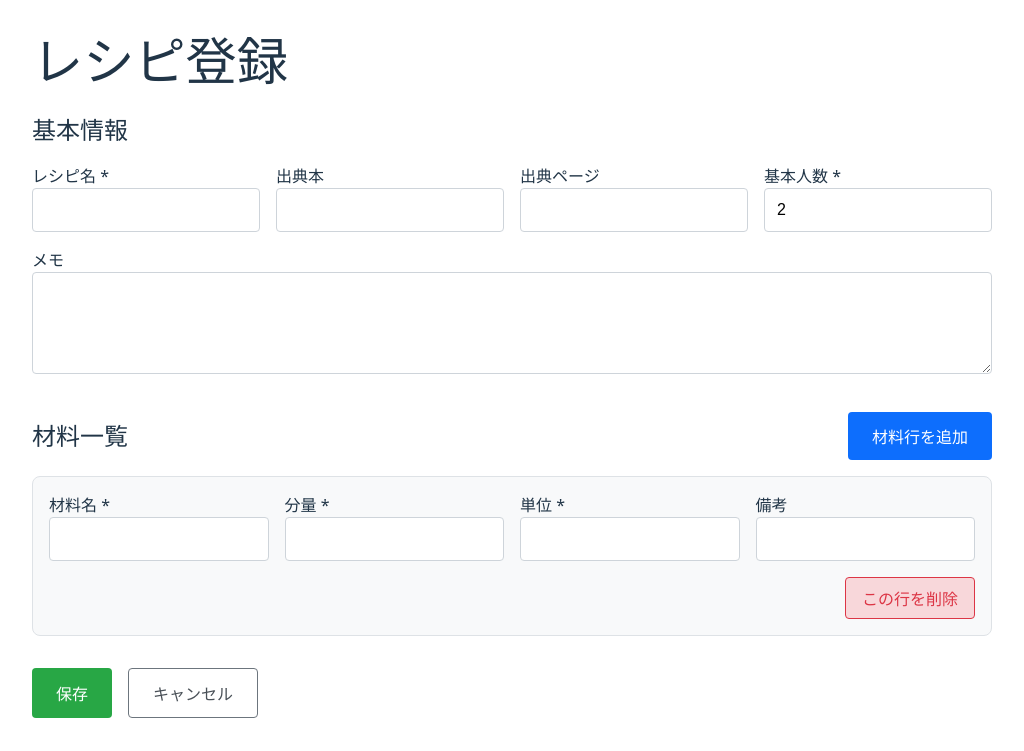
Test: RecipeNewPage › 有効な入力の送信に失敗した場合はAPIエラーを表示して遷移しない
Type "カレー" into the field labelled "レシピ名 *".
click(146, 210); type("カレー")  # box 32,188 -> 260,232
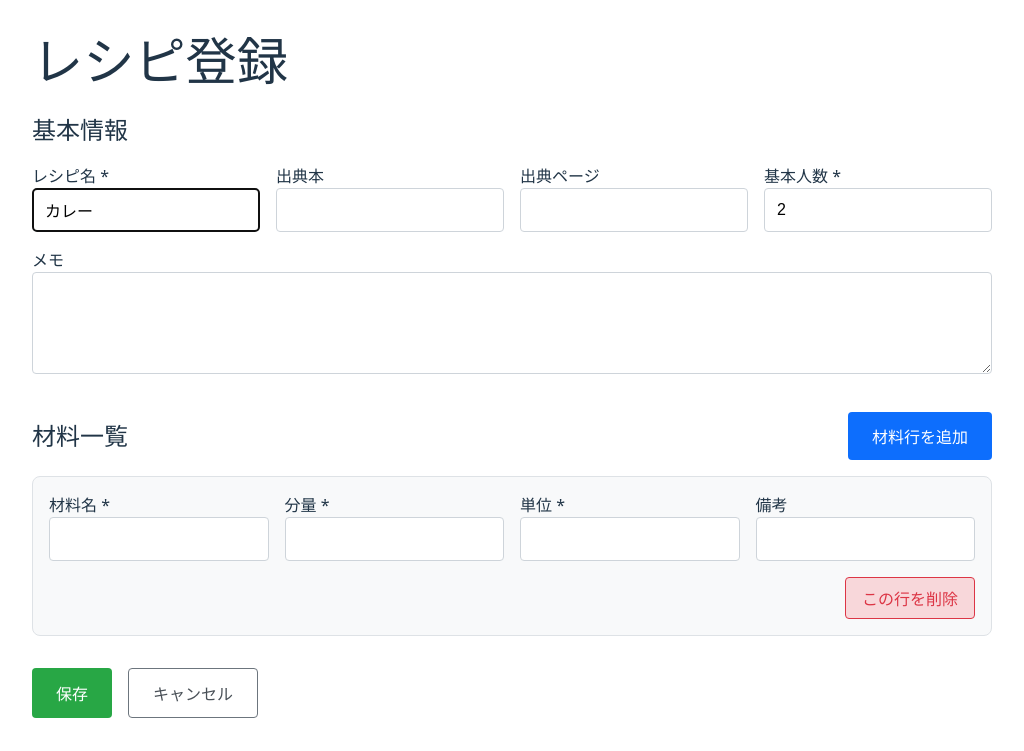
Type "肉" into the field labelled "材料名 *".
click(159, 539); type("肉")  # box 49,517 -> 268,561
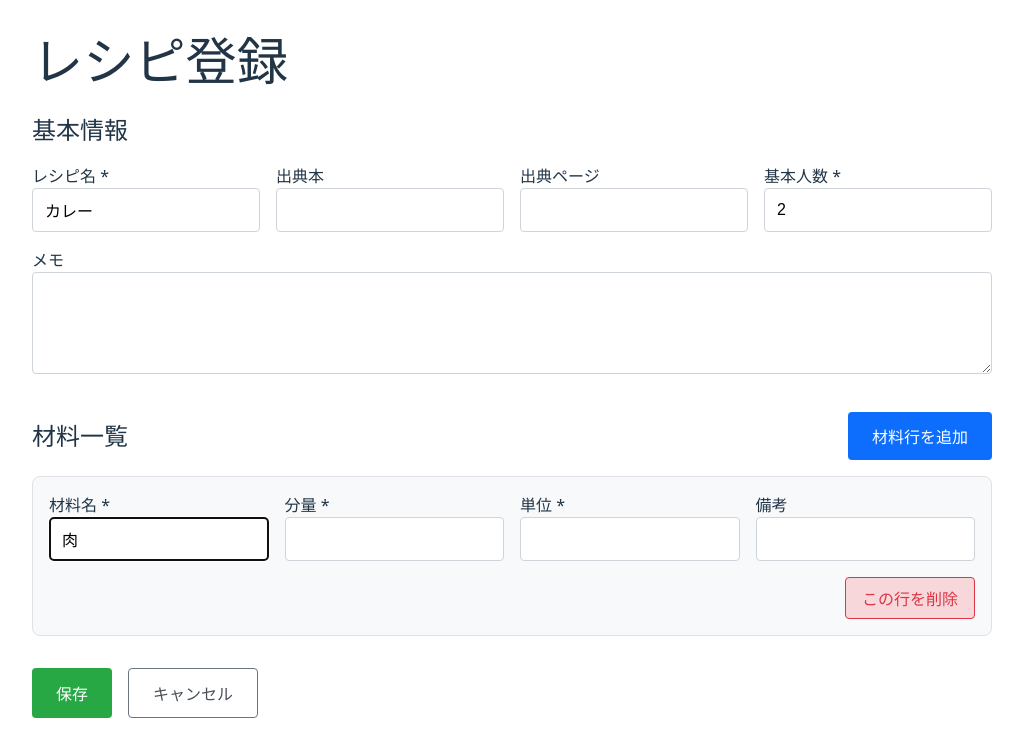
Type "200" into the field labelled "分量 *".
click(394, 539); type("200")  # box 284,517 -> 504,561
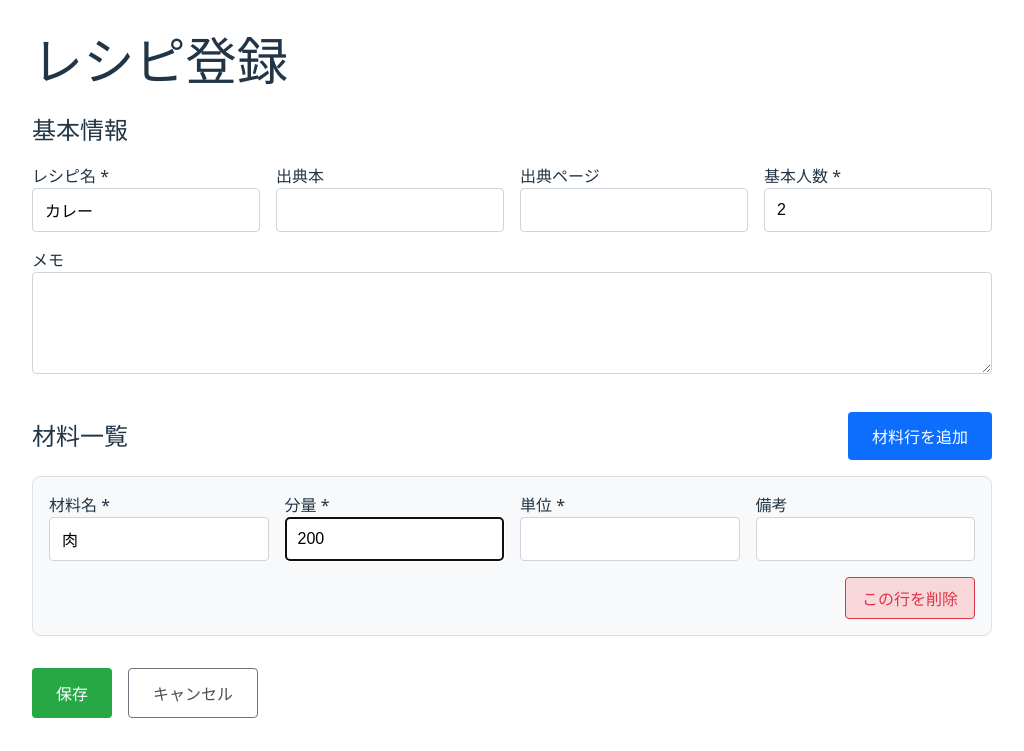
Type "g" into the field labelled "単位 *".
click(630, 539); type("g")  # box 520,517 -> 740,561
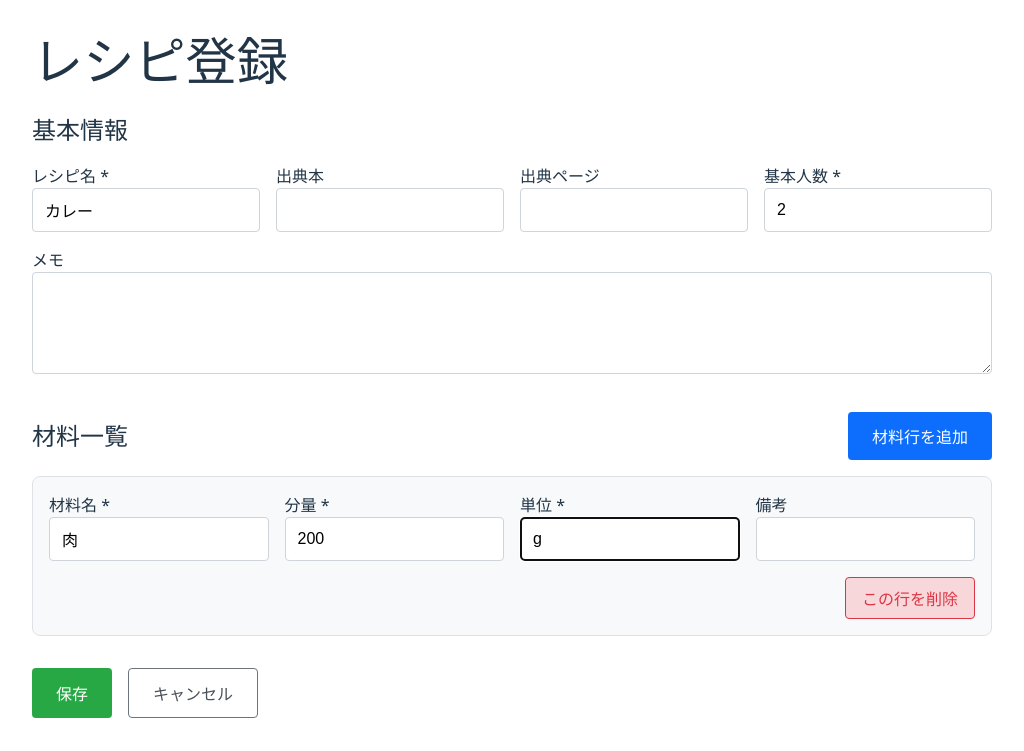
Click the button "保存".
click(72, 693)  # box 32,668 -> 112,718
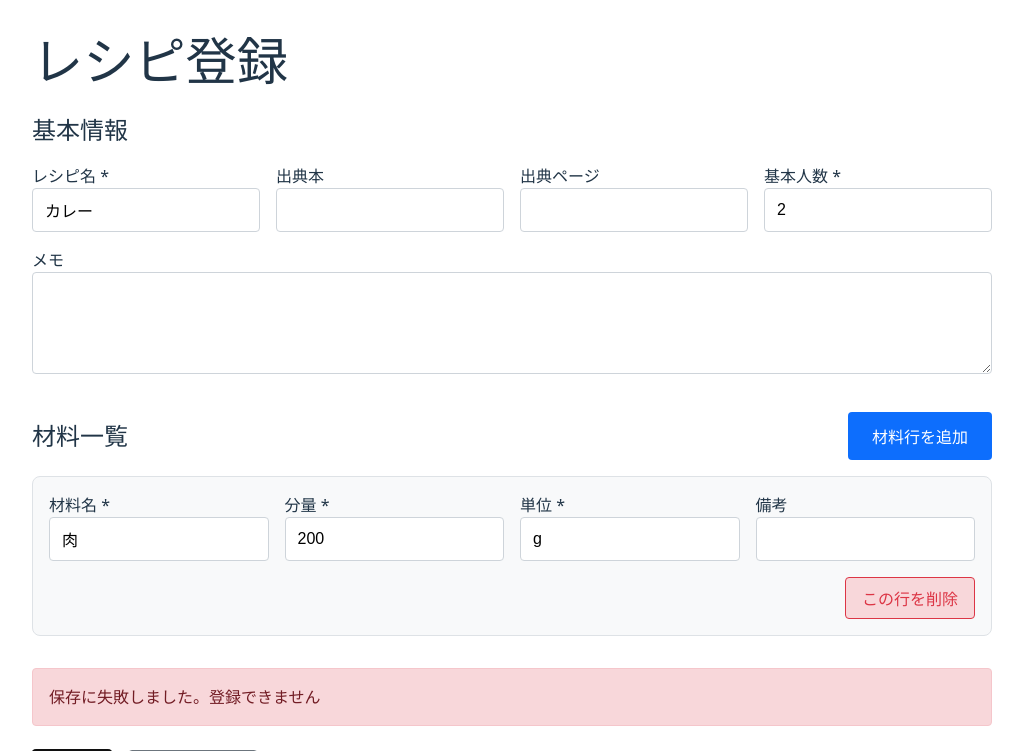
Now the text "保存に失敗しました。登録できません" is shown, box 32,668 -> 992,726
